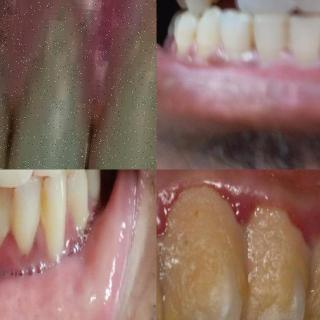Gum Swelling: (156, 170, 320, 235)
calculus: (163, 188, 240, 320), (245, 210, 305, 320), (34, 187, 58, 253), (304, 224, 320, 320), (1, 190, 23, 252)
maligned: (156, 193, 242, 320), (235, 213, 312, 320), (230, 0, 294, 12)
